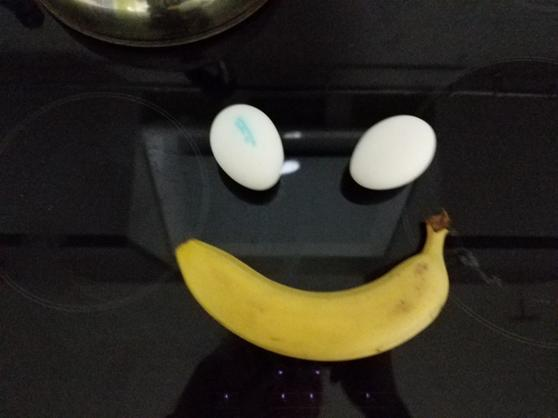banana: (162, 212, 470, 369)
egg: (200, 99, 298, 194), (337, 108, 440, 196)
